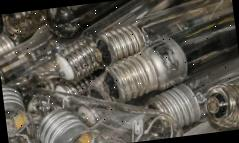lightbulb: (0, 0, 239, 143), (92, 33, 192, 106), (33, 102, 110, 143), (0, 80, 46, 143), (202, 80, 239, 129)
